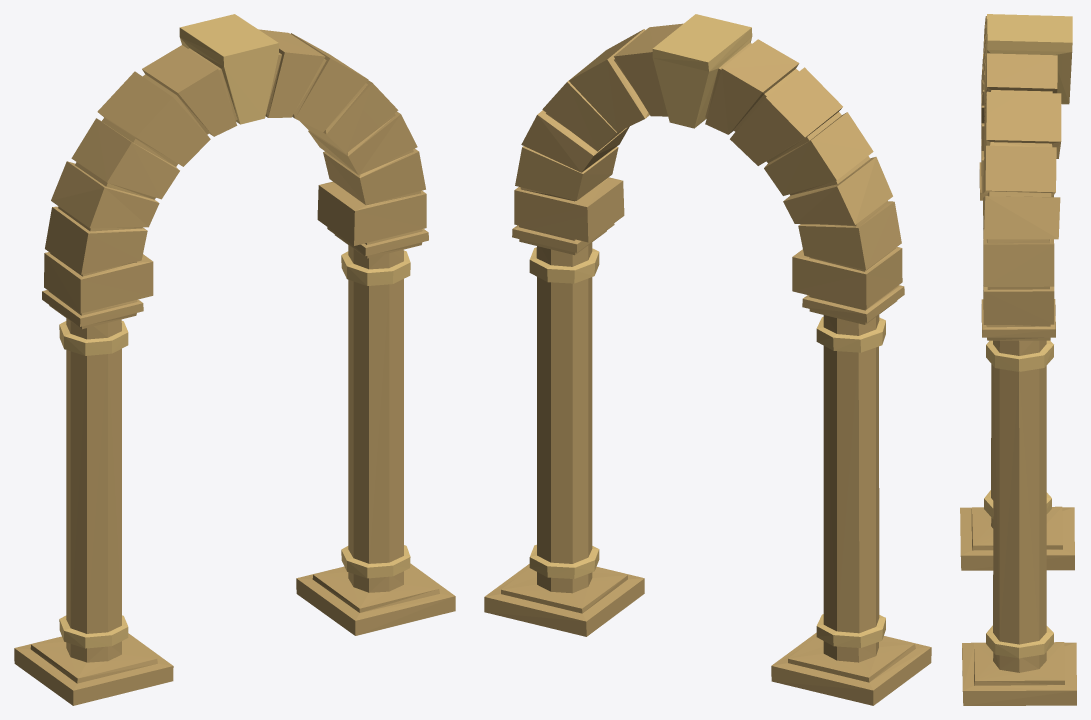
Rendered from SL_Arch.fbx.
3 renders of one model, left to right at view 1: azimuth 30°, elevation 25°; view 2: azimuth 150°, elevation 25°; view 3: azimuth 270°, elevation 25°, orthographic. The views are drawn at different scales.
Visible parts, largest first — view 1: Arch.002; view 2: Arch.002; view 3: Arch.002.
Part boxes in pixels (bbox=[...]): Arch.002: bbox=[14, 14, 455, 705]; Arch.002: bbox=[484, 14, 931, 705]; Arch.002: bbox=[960, 14, 1076, 705].
Size of the model in its own units: 2024 by 3014 by 544.
